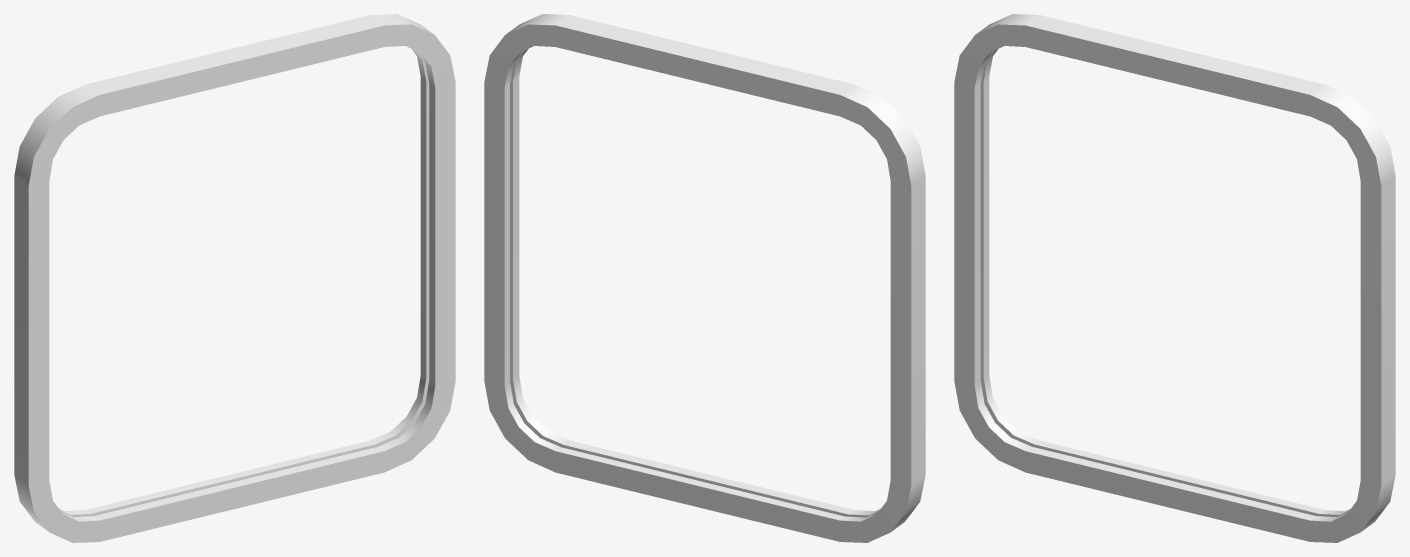
File: gizmoMoveCenter.fbx
The picture shows the model from 3 angles, left to right: view 1: azimuth 30°, elevation 25°; view 2: azimuth 150°, elevation 25°; view 3: azimuth 330°, elevation 25°; orthographic projection.
Parts seen in each view (by area): view 1: gizmoMoveCenter; view 2: gizmoMoveCenter; view 3: gizmoMoveCenter.
Boxes of the visible parts, bbox=[...] form: gizmoMoveCenter: bbox=[14, 14, 455, 542]; gizmoMoveCenter: bbox=[484, 14, 925, 542]; gizmoMoveCenter: bbox=[954, 14, 1395, 542].
Bounding box in the file's own units: 4.94 × 4.94 × 0.2908.
1 material, 1 textured.
